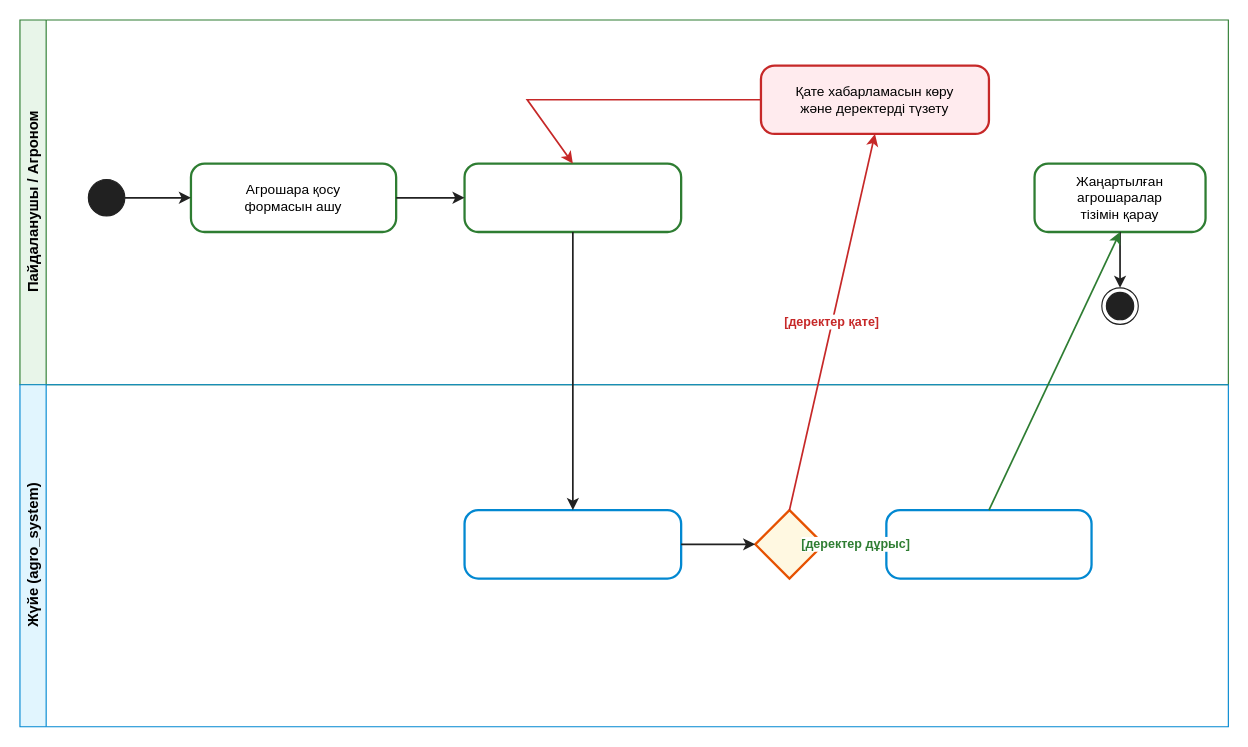
This 1248x747 diagram has some shape labels left out. The box of each missing label's shape, as (x1, y1, x2, y2) in pixels:
Агрошараны дерекқорға сақтау: (885, 508, 1092, 579)
Міндетті өрістер мен күн форматын тексеру: (463, 508, 682, 579)
Шара деректерін толтыру және жіберу: (463, 162, 682, 233)
